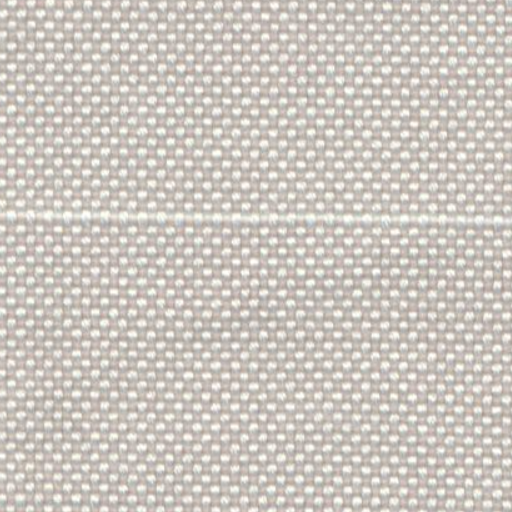TuoSha: (4, 178, 504, 262)
